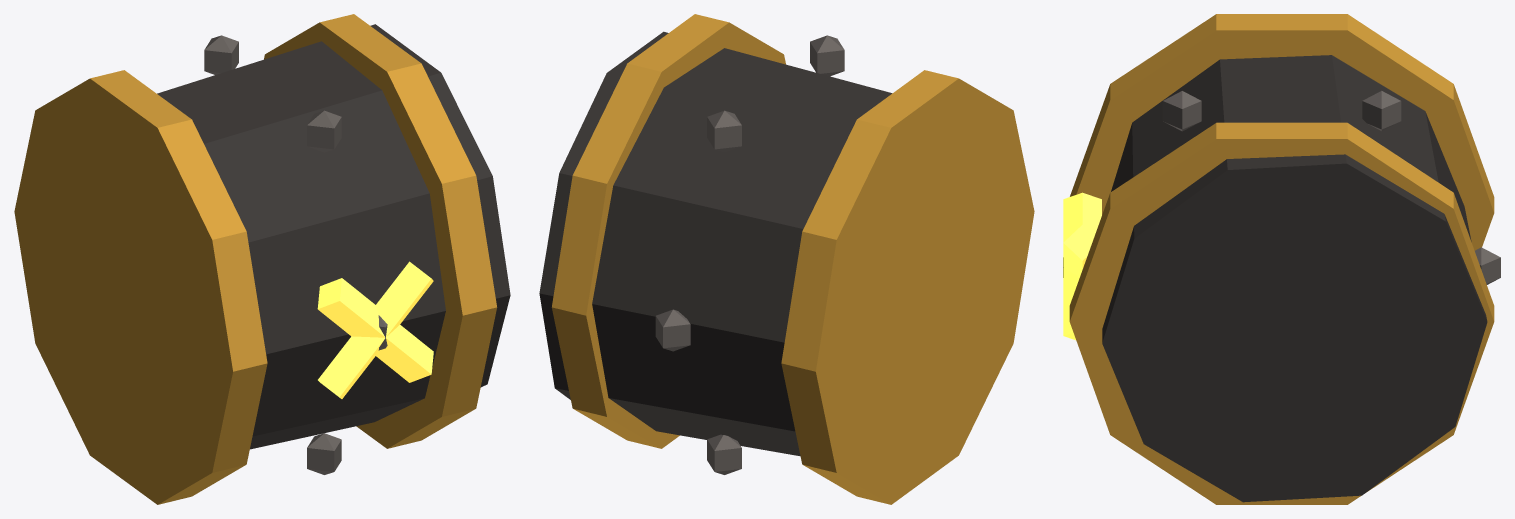
The model's file is ember_thane_bracer_r.glb.
The picture shows the model from 3 angles, left to right: view 1: azimuth 30°, elevation 25°; view 2: azimuth 150°, elevation 25°; view 3: azimuth 270°, elevation 25°; orthographic projection. The views are drawn at different scales.
Visible parts, largest first — view 1: ember_thane_bracer_r; view 2: ember_thane_bracer_r; view 3: ember_thane_bracer_r.
Boxes of the visible parts, box(x1,y1,x2,y2) form: ember_thane_bracer_r: box(14, 14, 510, 504); ember_thane_bracer_r: box(539, 14, 1034, 504); ember_thane_bracer_r: box(1063, 14, 1500, 504).
Bounding box in the file's own units: 0.2562 × 0.3138 × 0.3403.
